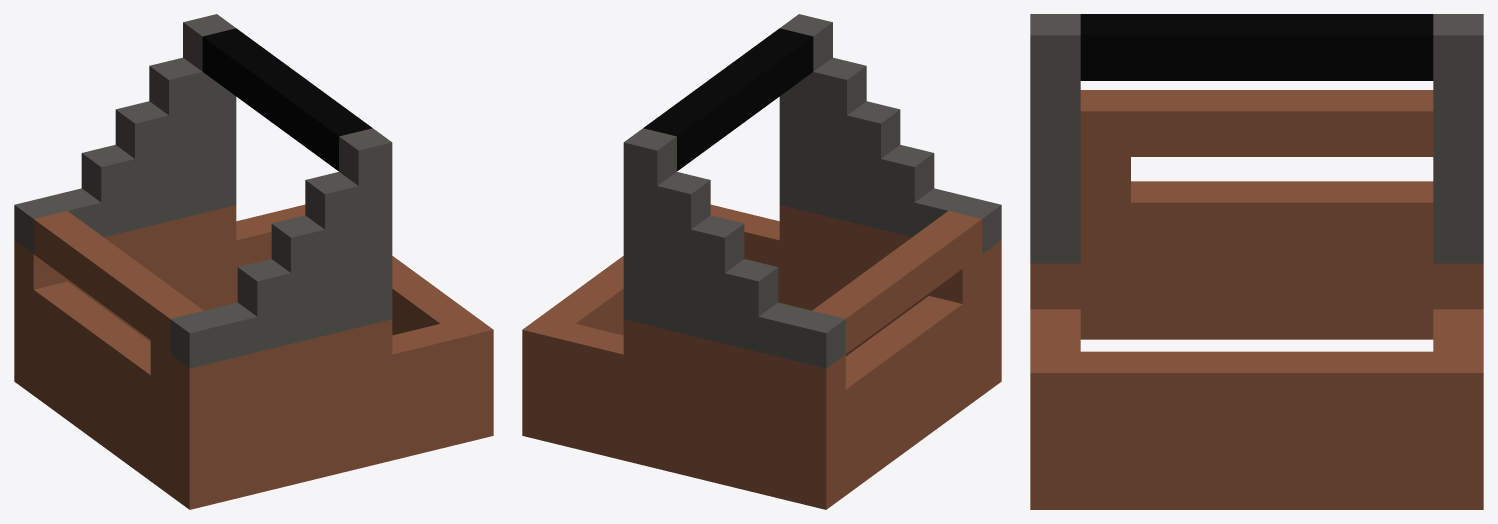
Rendered from GoldMine.gltf.
The picture shows the model from 3 angles, left to right: view 1: azimuth 30°, elevation 25°; view 2: azimuth 150°, elevation 25°; view 3: azimuth 270°, elevation 25°; orthographic projection. The views are drawn at different scales.
Parts seen in each view (by area): view 1: Layer.1; view 2: Layer.1; view 3: Layer.1.
Boxes of the visible parts, x1,y1,x2,y2 form: Layer.1: (14,14,493,509); Layer.1: (522,14,1001,509); Layer.1: (1030,14,1483,509).
Bounding box in the file's own units: 9 × 9 × 9.
1 material, 1 textured.
